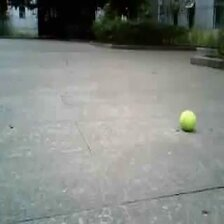tennis: (180, 111, 196, 130)
